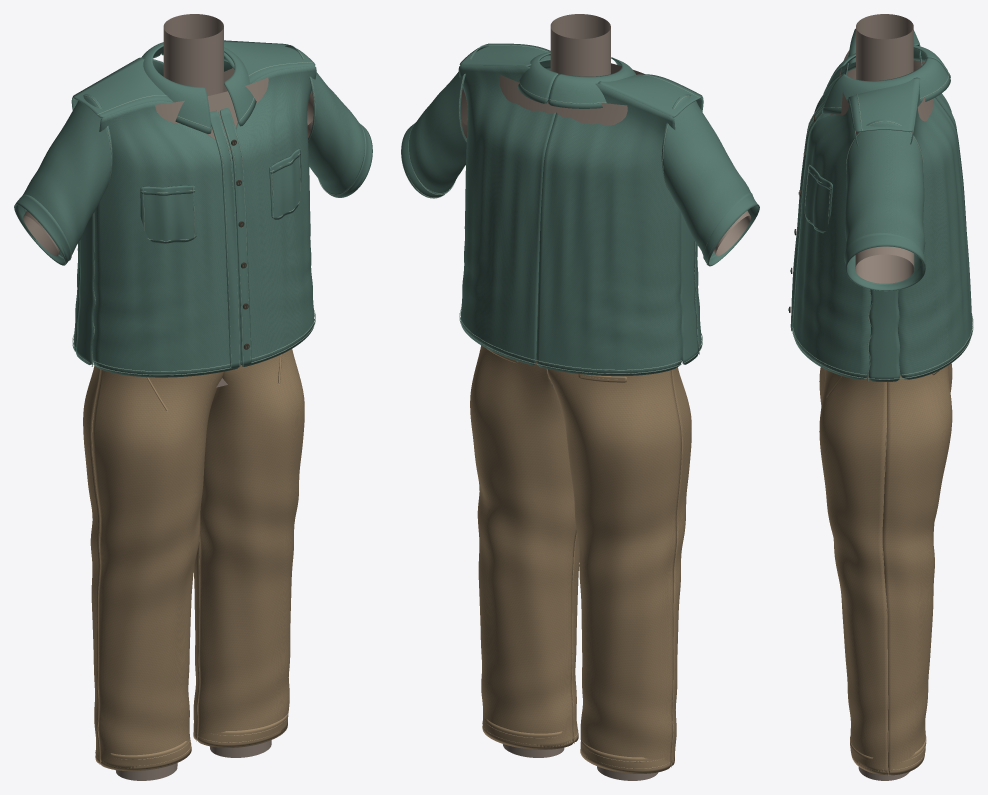
Rendered from everyday-01-on-form.glb.
The picture shows the model from 3 angles, left to right: view 1: azimuth 30°, elevation 25°; view 2: azimuth 150°, elevation 25°; view 3: azimuth 270°, elevation 25°; orthographic projection.
Parts seen in each view (by area): view 1: Trousers_R_front_panel.001, Trousers_L_front_panel.001, Shirt_R_front_panel.001, Shirt_L_front_panel.001, Shirt_R_sleeve.001, Shirt_L_sleeve.001, FIXTURE_neck_no_head.001, Shirt_front_under_placket.001, Shirt_R_shoulder_separate_piece.001, Trousers_R_back_panel.001, Shirt_front_upper_placket.001, Shirt_R_open_patch_pocket.001 (+11 smaller); view 2: Trousers_R_back_panel.001, Shirt_R_back_panel.001, Trousers_L_back_panel.001, Shirt_L_back_panel.001, Shirt_R_sleeve.001, Shirt_L_sleeve.001, FIXTURE_neck_no_head.001, Trousers_R_front_panel.001, Shirt_R_shoulder_separate_piece.001, Shirt_R_side_gusset.001, Shirt_R_camp_collar.001, FIXTURE_original_torso_not_producer_body.001 (+8 smaller); view 3: Trousers_L_front_panel.001, Trousers_L_back_panel.001, Shirt_L_back_panel.001, Shirt_L_front_panel.001, Shirt_L_sleeve.001, FIXTURE_neck_no_head.001, Shirt_L_side_gusset.001, Shirt_L_shoulder_separate_piece.001, Shirt_L_camp_collar.001, FIXTURE_L_upper_arm_stub.001, Shirt_L_cuff_facing.001, Shirt_L_open_patch_pocket.001 (+4 smaller).
Boxes of the visible parts, bbox=[...] form: Trousers_R_front_panel.001: bbox=[92, 369, 223, 771]; Trousers_L_front_panel.001: bbox=[197, 349, 304, 747]; Shirt_R_front_panel.001: bbox=[92, 101, 237, 377]; Shirt_L_front_panel.001: bbox=[232, 66, 316, 366]; Shirt_R_sleeve.001: bbox=[15, 94, 112, 263]; Shirt_L_sleeve.001: bbox=[285, 45, 365, 197]; FIXTURE_neck_no_head.001: bbox=[163, 14, 223, 96]; Shirt_front_under_placket.001: bbox=[210, 111, 240, 368]; Shirt_R_shoulder_separate_piece.001: bbox=[73, 57, 173, 117]; Trousers_R_back_panel.001: bbox=[83, 366, 100, 763]; Shirt_front_upper_placket.001: bbox=[220, 108, 251, 366]; Shirt_R_open_patch_pocket.001: bbox=[140, 185, 197, 243]; Trousers_R_back_panel.001: bbox=[547, 369, 681, 773]; Shirt_R_back_panel.001: bbox=[536, 83, 682, 376]; Trousers_L_back_panel.001: bbox=[470, 345, 576, 749]; Shirt_L_back_panel.001: bbox=[458, 65, 555, 365]; Shirt_R_sleeve.001: bbox=[661, 94, 758, 256]; Shirt_L_sleeve.001: bbox=[409, 45, 489, 198]; FIXTURE_neck_no_head.001: bbox=[550, 14, 610, 76]; Trousers_R_front_panel.001: bbox=[671, 367, 691, 765]; Shirt_R_shoulder_separate_piece.001: bbox=[598, 74, 702, 117]; Shirt_R_side_gusset.001: bbox=[680, 212, 698, 364]; Shirt_R_camp_collar.001: bbox=[548, 57, 636, 108]; FIXTURE_original_torso_not_producer_body.001: bbox=[499, 63, 644, 386]; Trousers_L_front_panel.001: bbox=[819, 369, 887, 774]; Trousers_L_back_panel.001: bbox=[882, 365, 952, 775]; Shirt_L_back_panel.001: bbox=[898, 78, 972, 379]; Shirt_L_front_panel.001: bbox=[792, 97, 870, 379]; Shirt_L_sleeve.001: bbox=[845, 119, 925, 282]; FIXTURE_neck_no_head.001: bbox=[856, 14, 913, 81]; Shirt_L_side_gusset.001: bbox=[868, 289, 900, 381]; Shirt_L_shoulder_separate_piece.001: bbox=[848, 77, 919, 131]; Shirt_L_camp_collar.001: bbox=[822, 57, 950, 113]; FIXTURE_L_upper_arm_stub.001: bbox=[855, 246, 914, 283]; Shirt_L_cuff_facing.001: bbox=[844, 233, 925, 291]; Shirt_L_open_patch_pocket.001: bbox=[804, 166, 832, 233].
Size of the model in its own units: 0.7265 by 1.5 by 0.3498.
Materials: 6 (2 with a texture image).
